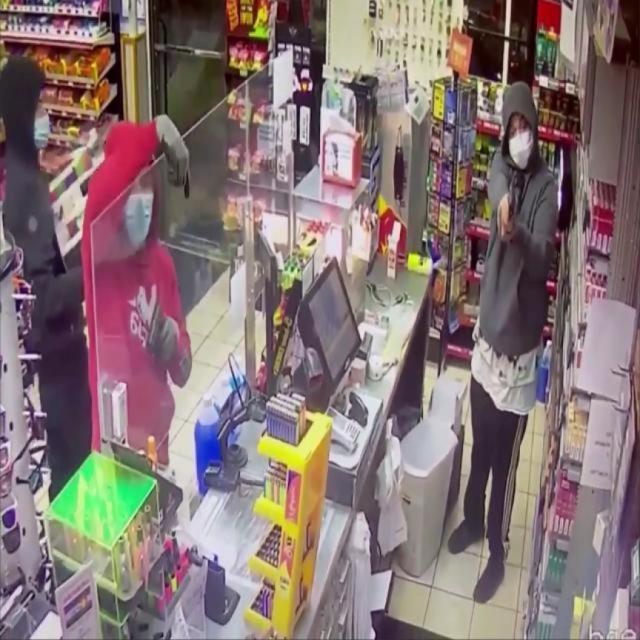pistol: (146, 301, 171, 364), (504, 183, 518, 240)
